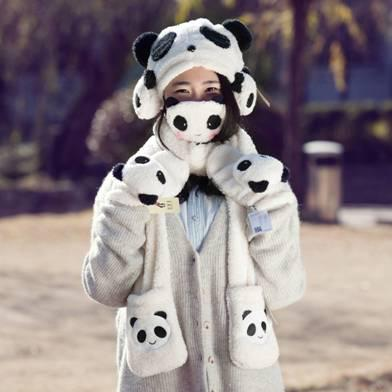OK: (166, 70, 230, 145)
